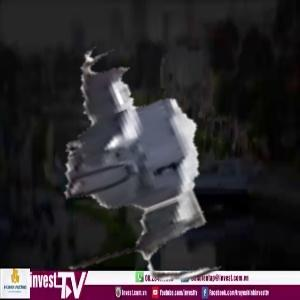drone: (15, 28, 284, 297)
